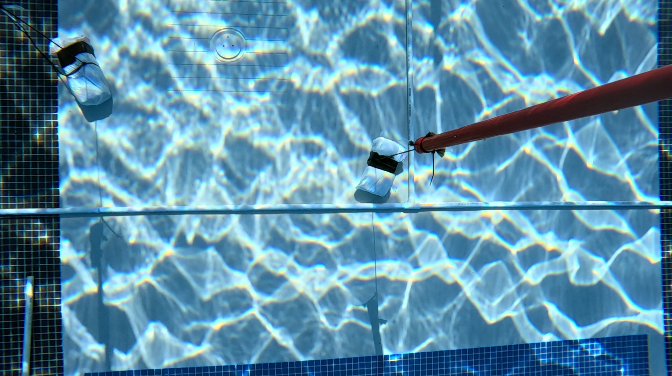sandbag: (48, 33, 111, 107), (356, 136, 406, 196)
